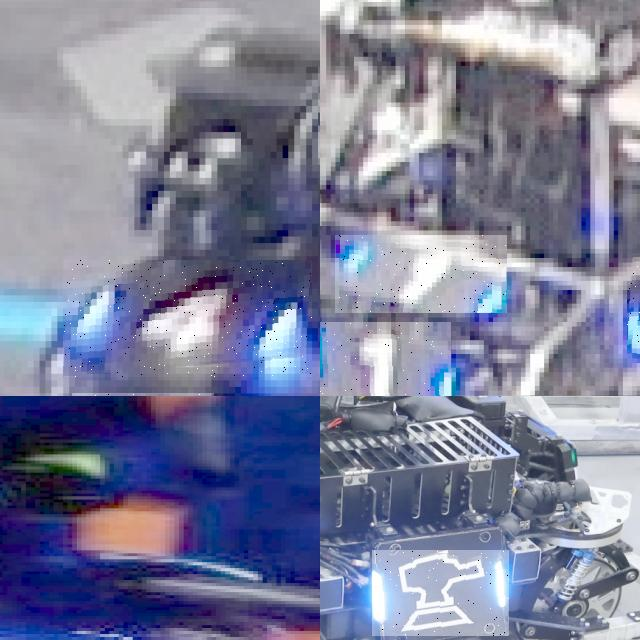B1: (335, 235, 507, 313), (320, 321, 451, 396)
B4: (63, 260, 312, 377)
Bs: (372, 550, 510, 636)
